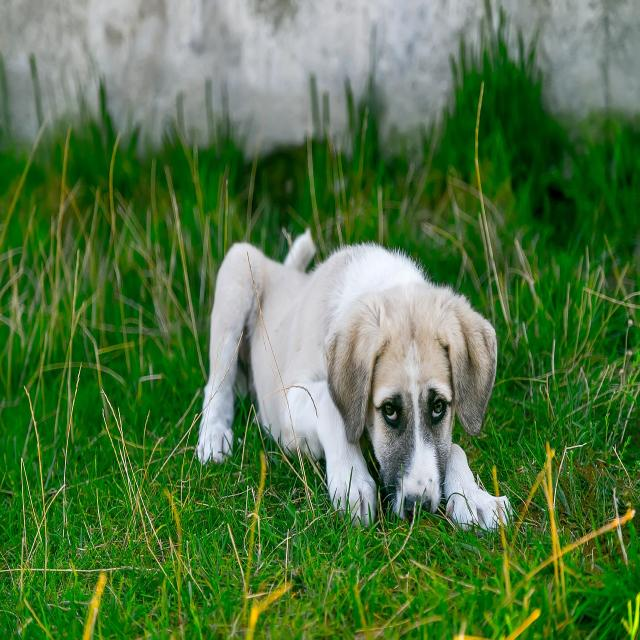fungal infection: (413, 468, 439, 497)
